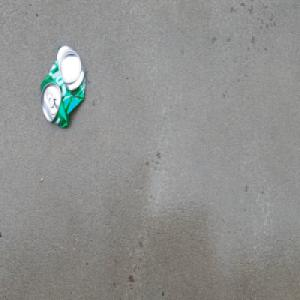SodaCan: (38, 42, 87, 130)
